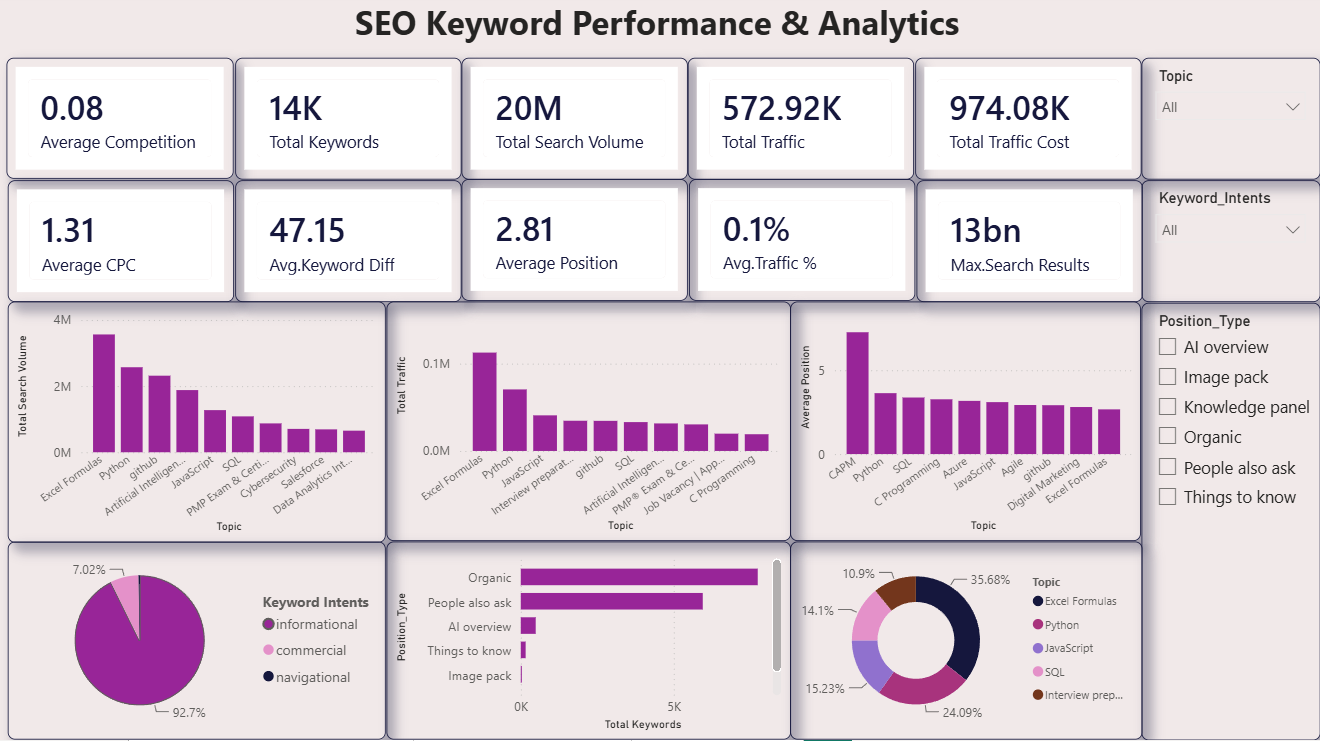

Layout of this report page (visuals, bound fields, positions):
{"tool":"powerbi","page":{"name":"SEO Keyword Analytics Dashboard","canvas":[1280,720],"ordinal":0},"visuals":[{"type":"cardVisual","fields":{"Data":["Dax Measures.Average Competition"]},"box":[12.1,61.5,219.6,117],"z":0},{"type":"clusteredColumnChart","fields":{"Y":["Dax Measures.Total Search Volume"],"Category":["keyword_database main_table.Topic"]},"box":[13.8,296.2,365,232.5],"z":1000},{"type":"donutChart","fields":{"Y":["Dax Measures.Total Keywords"],"Category":["keyword_database topic_lookup.Topic"]},"box":[768.8,528.8,340,191.2],"z":2000},{"type":"columnChart","fields":{"Y":["Dax Measures.Total Traffic"],"Category":["keyword_database topic_lookup.Topic"]},"box":[378.8,296.2,390,231.2],"z":3000},{"type":"textbox","box":[0,0,1280.3,61.1],"z":4000},{"type":"pieChart","fields":{"Category":["keyword_database intent_lookup.Keyword Intents"],"Y":["Dax Measures.Total Keywords"]},"box":[13.8,528.8,365,191.2],"z":5000},{"type":"barChart","fields":{"Y":["Dax Measures.Total Keywords"],"Category":["keyword_database main_table.Position_Type"]},"box":[378.8,528.8,390,191.2],"z":6000},{"type":"columnChart","fields":{"Y":["Dax Measures.Average Position"],"Category":["keyword_database topic_lookup.Topic"]},"box":[768.8,296.2,338.8,231.2],"z":7000},{"type":"cardVisual","fields":{"Data":["Dax Measures.Total Keywords"]},"box":[232.5,61.2,218.8,117.5],"z":8000},{"type":"cardVisual","fields":{"Data":["Dax Measures.Total Search Volume"]},"box":[451.2,61.2,218.8,117.5],"z":9000},{"type":"cardVisual","fields":{"Data":["Dax Measures.Total Traffic"]},"box":[670,61.2,218.8,117.5],"z":10000},{"type":"cardVisual","fields":{"Data":["Dax Measures.Total Traffic Cost"]},"box":[888.8,61.2,218.8,117.5],"z":11000},{"type":"cardVisual","fields":{"Data":["Dax Measures.Average CPC"]},"box":[13.8,180,218.8,117.5],"z":12000},{"type":"cardVisual","fields":{"Data":["Dax Measures.Average Keyword Difficulty"]},"box":[232.5,180,218.8,117.5],"z":13000},{"type":"cardVisual","fields":{"Data":["Dax Measures.Average Position"]},"box":[451.2,178.8,218.8,117.5],"z":14000},{"type":"cardVisual","fields":{"Data":["Dax Measures.Average Traffic Percentage"]},"box":[671.2,178.8,218.8,117.5],"z":15000},{"type":"cardVisual","fields":{"Data":["Dax Measures.Maximum Results"]},"box":[890,180,218.8,117.5],"z":16000},{"type":"slicer","fields":{"Values":["keyword_database topic_lookup.Topic"]},"box":[1107.5,61.2,172.5,117.5],"z":17000},{"type":"slicer","fields":{"Values":["keyword_database main_table.Keyword_Intents"]},"box":[1107.5,180,172.5,117.5],"z":18000},{"type":"slicer","fields":{"Values":["keyword_database main_table.Position_Type"]},"box":[1108,298,172,229],"z":19000},{"type":"slicer","fields":{"Values":["keyword_database traffic_lookup.Keyword ID"]},"box":[1109,529,171,191],"z":20000}]}

Visuals, with their boxes in screenshot pixels (x1, y1, x2, y2), scaled from the page's 1280x720 canvas onto the 1320x741 screenshot:
cardVisual - Dax Measures.Average Competition: detection(12, 63, 239, 184)
clusteredColumnChart - Dax Measures.Total Search Volume x keyword_database main_table.Topic: detection(14, 305, 391, 544)
donutChart - Dax Measures.Total Keywords x keyword_database topic_lookup.Topic: detection(793, 544, 1143, 740)
columnChart - Dax Measures.Total Traffic x keyword_database topic_lookup.Topic: detection(391, 305, 793, 543)
textbox: detection(0, 0, 1319, 63)
pieChart - keyword_database intent_lookup.Keyword Intents x Dax Measures.Total Keywords: detection(14, 544, 391, 740)
barChart - Dax Measures.Total Keywords x keyword_database main_table.Position_Type: detection(391, 544, 793, 740)
columnChart - Dax Measures.Average Position x keyword_database topic_lookup.Topic: detection(793, 305, 1142, 543)
cardVisual - Dax Measures.Total Keywords: detection(240, 63, 465, 184)
cardVisual - Dax Measures.Total Search Volume: detection(465, 63, 691, 184)
cardVisual - Dax Measures.Total Traffic: detection(691, 63, 917, 184)
cardVisual - Dax Measures.Total Traffic Cost: detection(917, 63, 1142, 184)
cardVisual - Dax Measures.Average CPC: detection(14, 185, 240, 306)
cardVisual - Dax Measures.Average Keyword Difficulty: detection(240, 185, 465, 306)
cardVisual - Dax Measures.Average Position: detection(465, 184, 691, 305)
cardVisual - Dax Measures.Average Traffic Percentage: detection(692, 184, 918, 305)
cardVisual - Dax Measures.Maximum Results: detection(918, 185, 1143, 306)
slicer - keyword_database topic_lookup.Topic: detection(1142, 63, 1319, 184)
slicer - keyword_database main_table.Keyword_Intents: detection(1142, 185, 1319, 306)
slicer - keyword_database main_table.Position_Type: detection(1143, 307, 1319, 542)
slicer - keyword_database traffic_lookup.Keyword ID: detection(1144, 544, 1319, 740)
